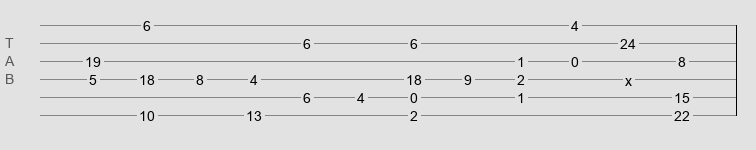0: (410, 90, 418, 100), (571, 54, 579, 64)
1: (517, 54, 525, 64), (517, 90, 525, 100)
10: (139, 108, 155, 118)
13: (246, 108, 262, 118)
15: (674, 90, 690, 100)
18: (139, 72, 155, 82), (406, 72, 422, 82)
19: (85, 54, 101, 64)
2: (410, 108, 418, 118), (517, 72, 525, 82)
22: (674, 108, 690, 118)
24: (620, 36, 636, 46)
4: (250, 72, 258, 82), (357, 90, 365, 100), (571, 18, 579, 28)
5: (89, 72, 97, 82)
6: (143, 18, 151, 28), (303, 90, 311, 100), (303, 36, 311, 46), (410, 36, 418, 46)
8: (196, 72, 204, 82), (678, 54, 686, 64)
9: (464, 72, 472, 82)
x: (625, 73, 632, 81)
